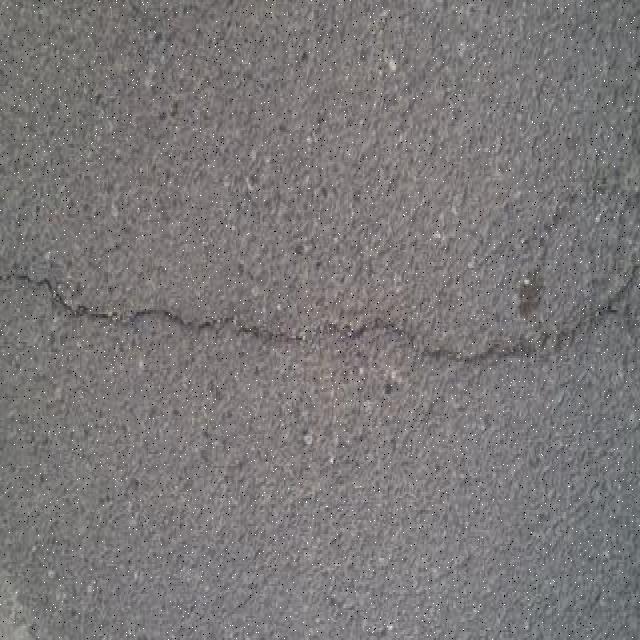Crack: (8, 267, 629, 367)
